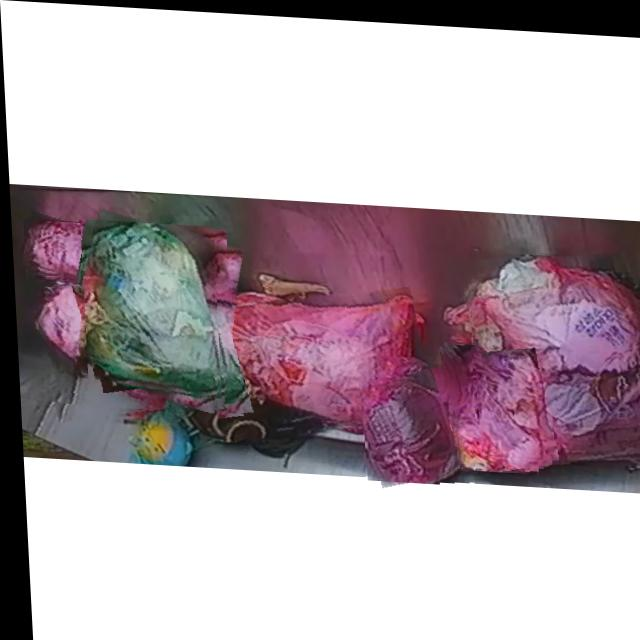general_trashbag: (83, 221, 216, 394)
other_trashbag: (467, 250, 640, 456), (205, 290, 411, 421), (33, 286, 160, 409), (358, 374, 468, 478), (451, 338, 529, 465), (24, 221, 113, 280)
